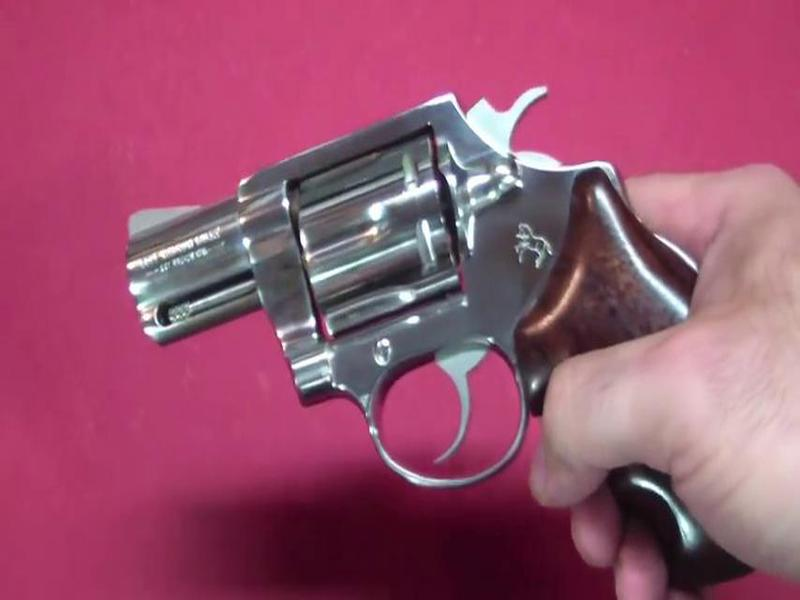Revolver: (112, 95, 772, 579)
